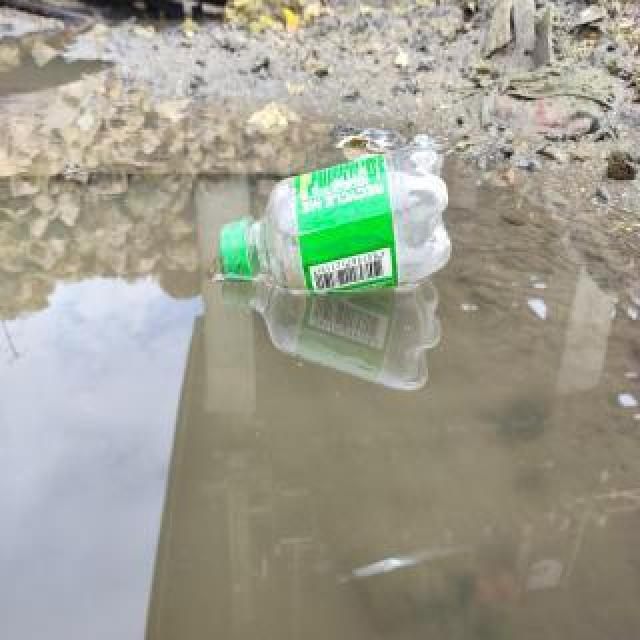bottle: (215, 138, 457, 300)
